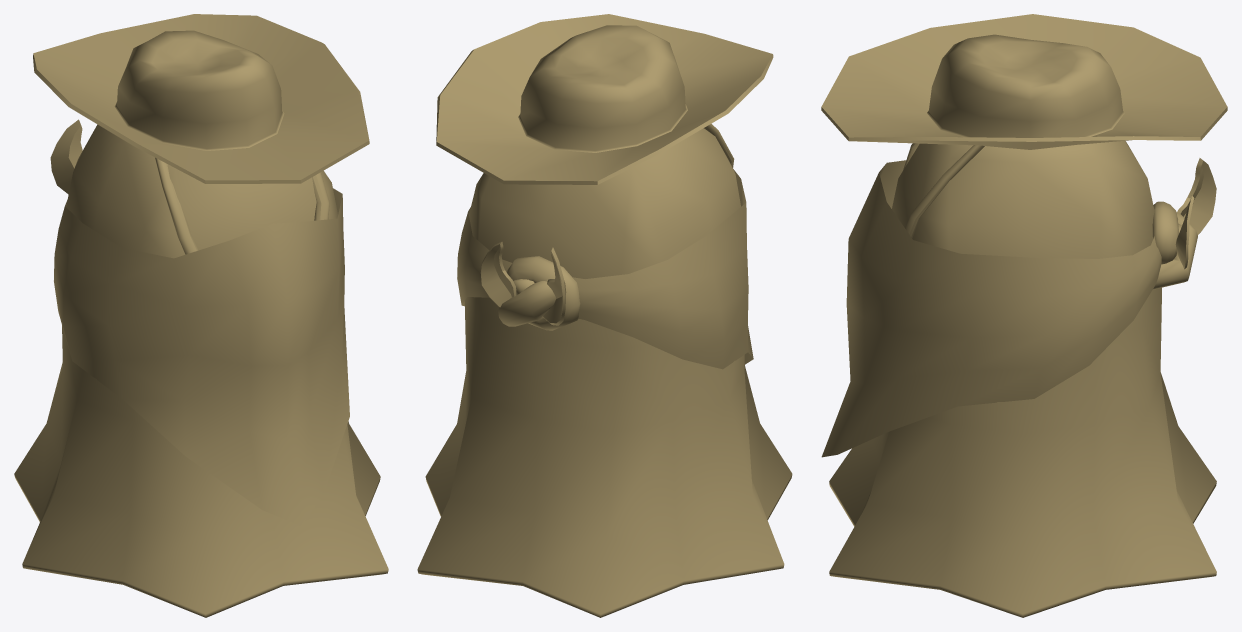
The model's file is player_partner.fbx.
3 renders of one model, left to right at view 1: azimuth 30°, elevation 25°; view 2: azimuth 150°, elevation 25°; view 3: azimuth 270°, elevation 25°, orthographic.
Parts seen in each view (by area): view 1: Main_Body1, pCylinder6, hat1, pCylinder5, polySurface15; view 2: Main_Body1, hat1, pCylinder6, pCylinder10, polySurface16, polySurface15; view 3: Main_Body1, pCylinder6, hat1, pCylinder10, polySurface15, pCylinder5, polySurface16.
Part boxes in pixels (x1,y1,x2,y2): Main_Body1: (14,124,388,617); pCylinder6: (54,188,349,525); hat1: (33,14,369,183); pCylinder5: (155,157,329,254); polySurface15: (50,119,82,194); Main_Body1: (417,128,792,617); hat1: (436,14,773,184); pCylinder6: (457,169,753,369); pCylinder10: (498,256,580,330); polySurface16: (480,241,516,307); polySurface15: (543,247,566,325); Main_Body1: (829,140,1216,617); pCylinder6: (821,160,1161,457); hat1: (821,14,1227,149); pCylinder10: (1152,201,1197,289); polySurface15: (1176,158,1216,234); pCylinder5: (903,143,984,238); polySurface16: (1175,196,1194,269).
Size of the model in its own units: 105 by 134 by 102.
